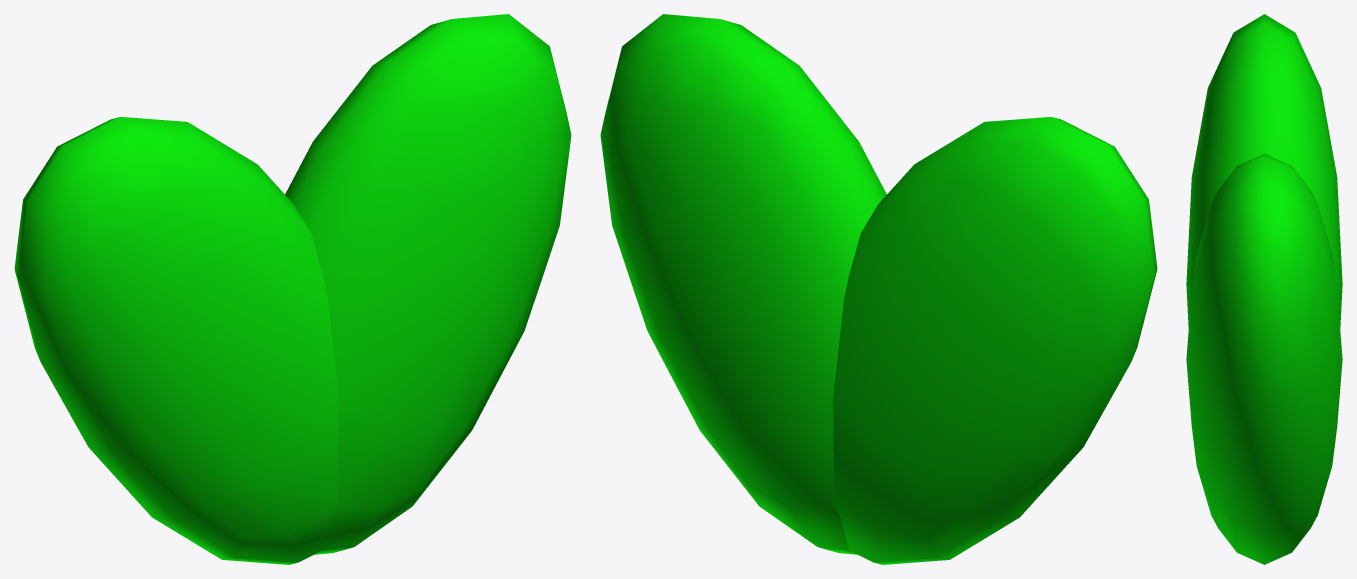
Rendered from Grass_2.fbx.
3 views of the same model, side by side, from view 1: azimuth 30°, elevation 25°; view 2: azimuth 150°, elevation 25°; view 3: azimuth 270°, elevation 25° (orthographic). The views are drawn at different scales.
Visible parts, largest first — view 1: Grass_2; view 2: Grass_2; view 3: Grass_2.
Boxes of the visible parts, bbox=[...] form: Grass_2: bbox=[14, 14, 571, 564]; Grass_2: bbox=[600, 14, 1157, 564]; Grass_2: bbox=[1186, 14, 1342, 564].
Size of the model in its own units: 24.91 by 21.98 by 6.77.
